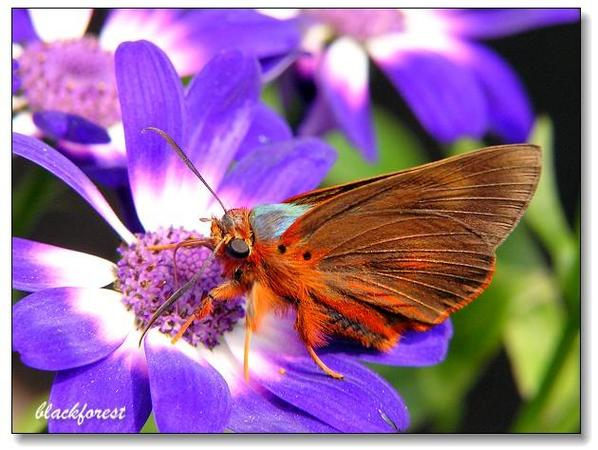Hesperiidae: (128, 115, 550, 388)
